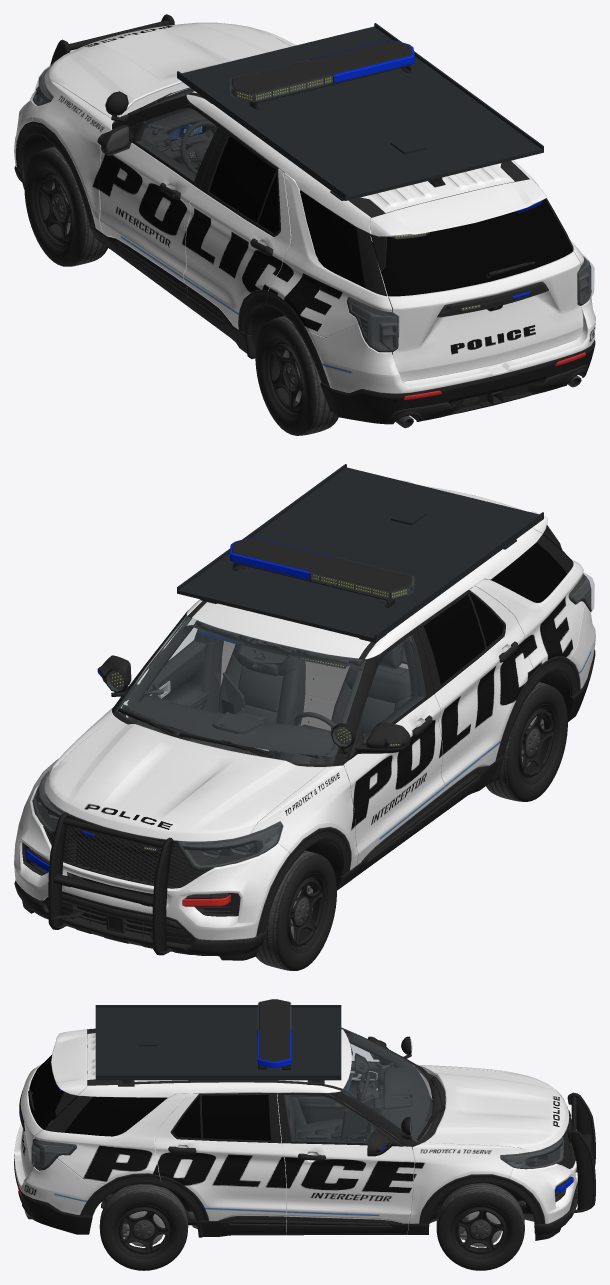
Rendered from us_police_suv.glb.
3 views of the same model, one above another, from view 1: azimuth 30°, elevation 25°; view 2: azimuth 150°, elevation 25°; view 3: azimuth 270°, elevation 25° (orthographic). The views are drawn at different scales.
Parts seen in each view (by area): view 1: USBody, USRoofDeck, USGlass, WheelRearLeft, WheelFrontLeft, USEdgeRail, USEdgeRail.001; view 2: USBody, USGlass, USRoofDeck, WheelFrontLeft, WheelRearLeft, USEdgeRail, USEdgeRail.001; view 3: USBody, USRoofDeck, USGlass, WheelFrontRight, WheelRearRight, USEdgeRail.001, USEdgeRail, USMonitor.
Boxes of the visible parts, x1=… form: USBody: x1=14, y1=14, x2=595, y2=428; USRoofDeck: x1=177, y1=26, x2=543, y2=200; USGlass: x1=32, y1=61, x2=594, y2=351; WheelRearLeft: x1=255, y1=315, x2=338, y2=435; WheelFrontLeft: x1=24, y1=146, x2=107, y2=266; USEdgeRail: x1=177, y1=71, x2=346, y2=197; USEdgeRail.001: x1=374, y1=23, x2=543, y2=149; USBody: x1=14, y1=480, x2=595, y2=960; USGlass: x1=32, y1=559, x2=594, y2=868; USRoofDeck: x1=177, y1=467, x2=543, y2=641; WheelFrontLeft: x1=256, y1=850, x2=336, y2=970; WheelRearLeft: x1=486, y1=682, x2=567, y2=801; USEdgeRail: x1=374, y1=512, x2=543, y2=638; USEdgeRail.001: x1=177, y1=464, x2=346, y2=590; USBody: x1=14, y1=999, x2=595, y2=1240; USRoofDeck: x1=95, y1=1007, x2=341, y2=1080; USGlass: x1=31, y1=1002, x2=563, y2=1170; WheelFrontRight: x1=436, y1=1183, x2=524, y2=1270; WheelRearRight: x1=99, y1=1184, x2=188, y2=1270; USEdgeRail.001: x1=95, y1=1075, x2=341, y2=1077; USEdgeRail: x1=95, y1=1005, x2=341, y2=1007; USMonitor: x1=340, y1=1096, x2=374, y2=1138.
Bounding box in the file's own units: 2.3 × 1.95 × 5.21.
5 materials, 3 textured.
